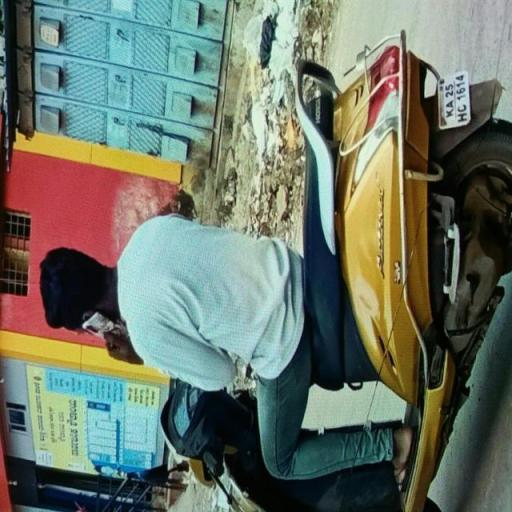using mobile: (82, 315, 142, 355)
